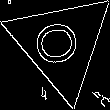O_E: (33, 18, 89, 70)
